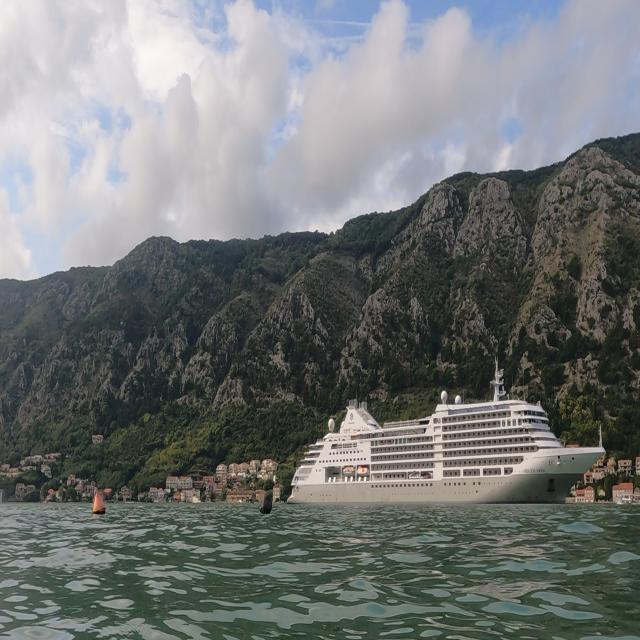boat: (284, 354, 606, 508)
buoy: (253, 471, 281, 525), (90, 482, 112, 522)
